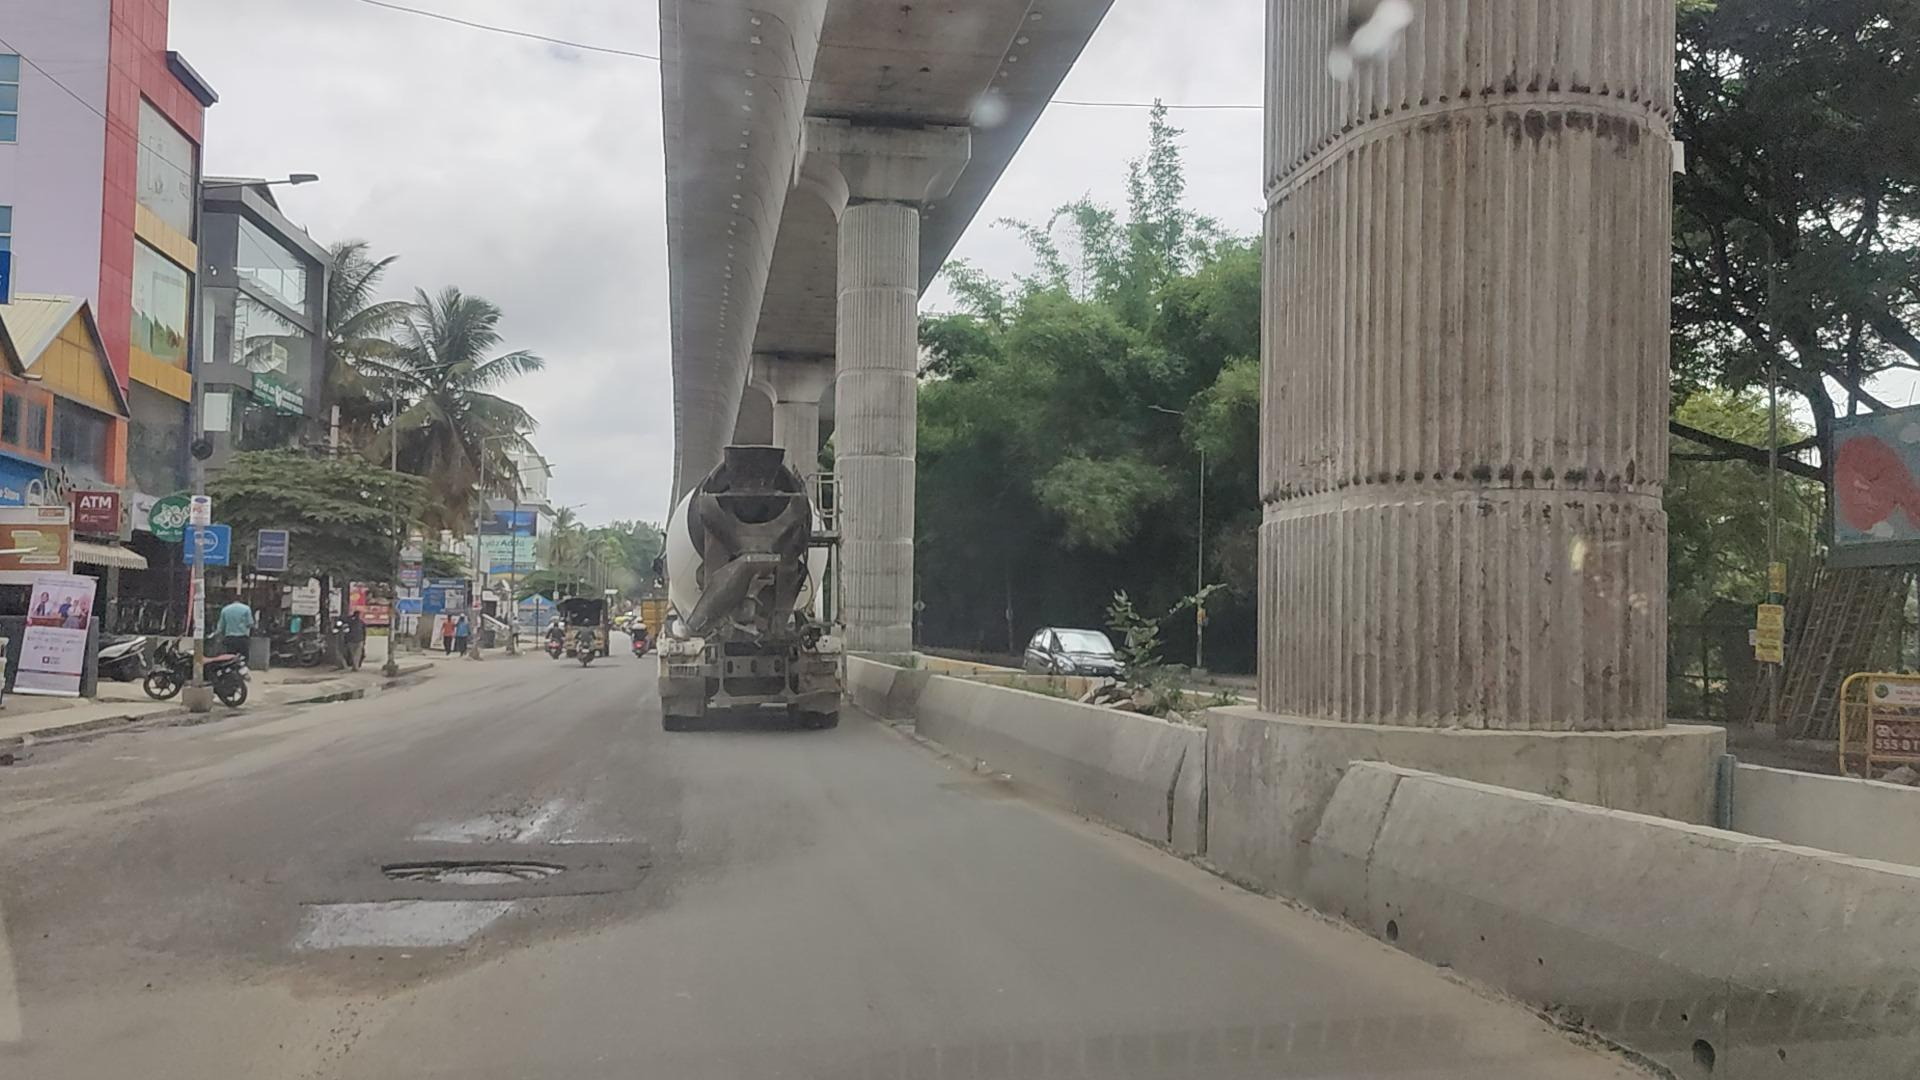HMV: (666, 454, 845, 726)
RoadDamages: (284, 888, 522, 960), (372, 834, 611, 903), (468, 804, 572, 838)
